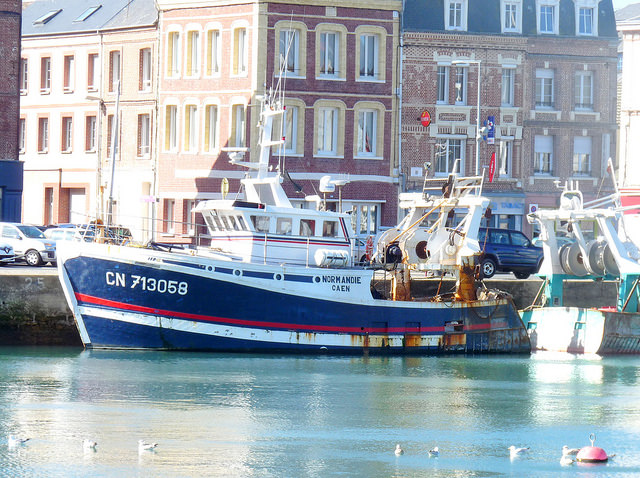fishing_boat: (50, 71, 532, 357)
